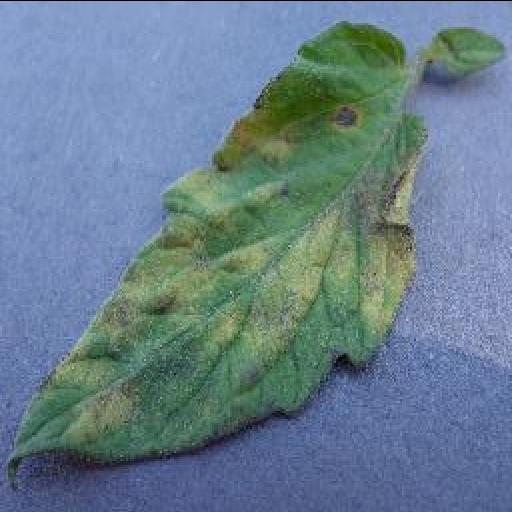disease_tomato: (8, 20, 428, 461)
